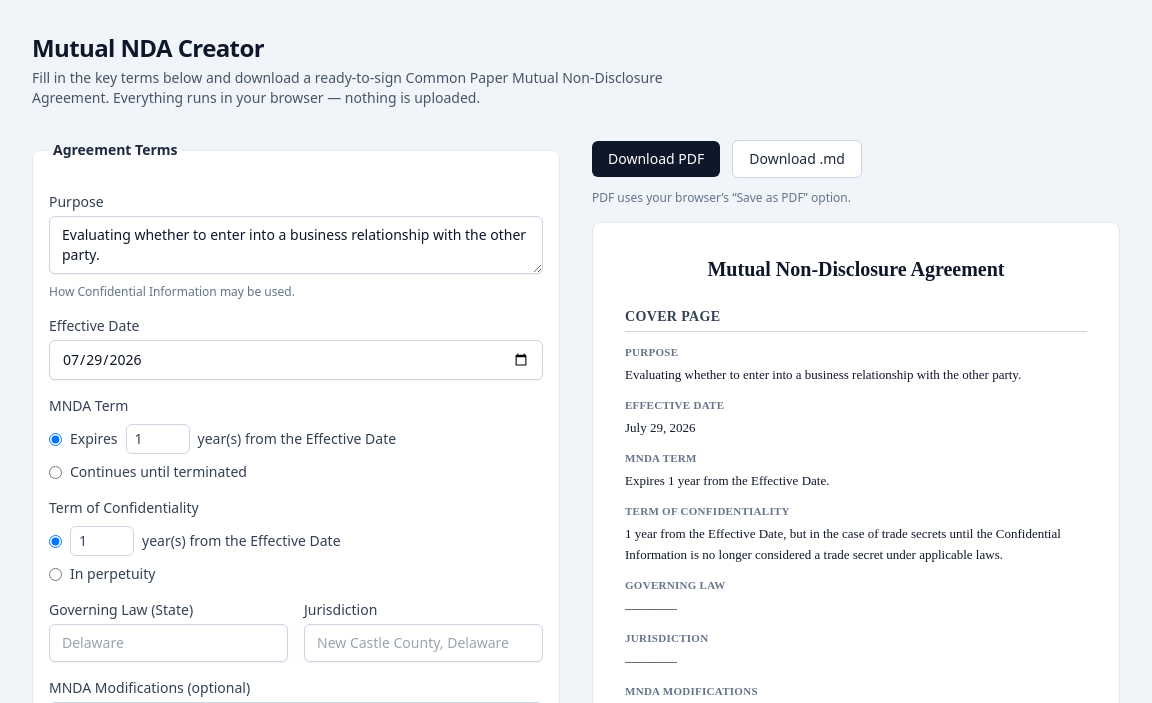
Test: Home page (form → live preview) › switches the term text to perpetuity when selected
Click the radio button labelled "In perpetuity" at x=56, y=574, box [49,568,62,580]
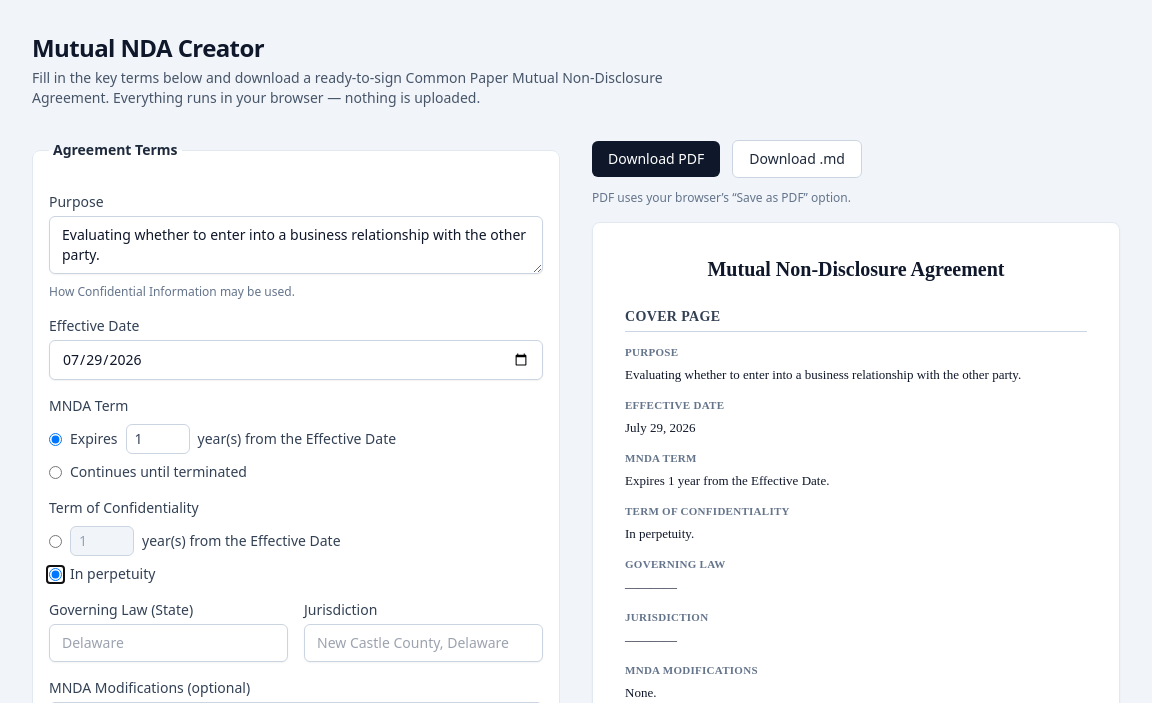
Result: the text "In perpetuity." is shown at [625,526,694,541]
